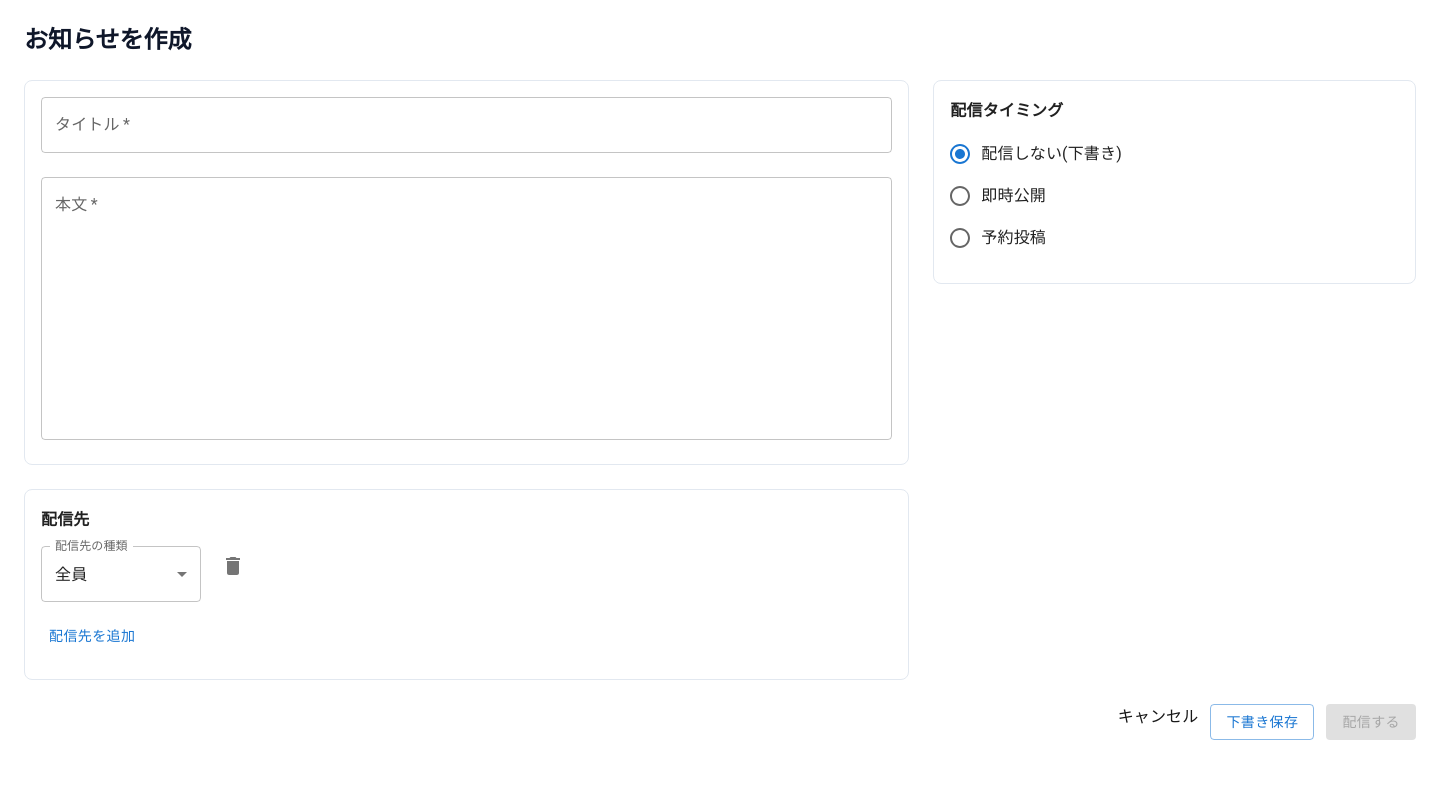
AnnouncementEditorPresenter › 配信先の検証 › 学年別で学年・権限が未選択だとエラーが表示されonSaveDraftは呼ばれない
In the field labelled "タイトル": {"x": 467, "y": 125} [41,97,892,153], type "お知らせ"
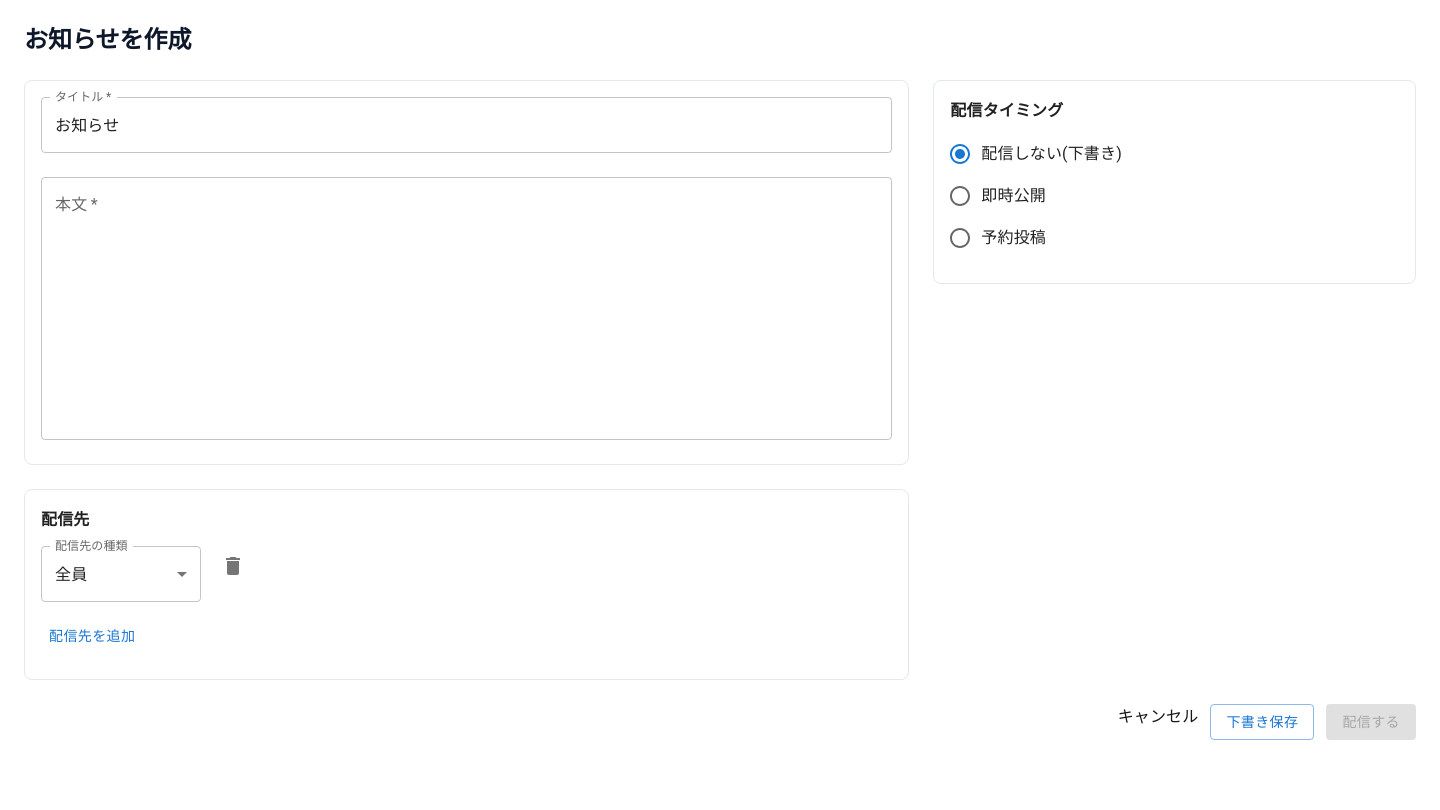
In the text box labelled "本文": {"x": 467, "y": 308} [55,194,878,424], type "本文です"
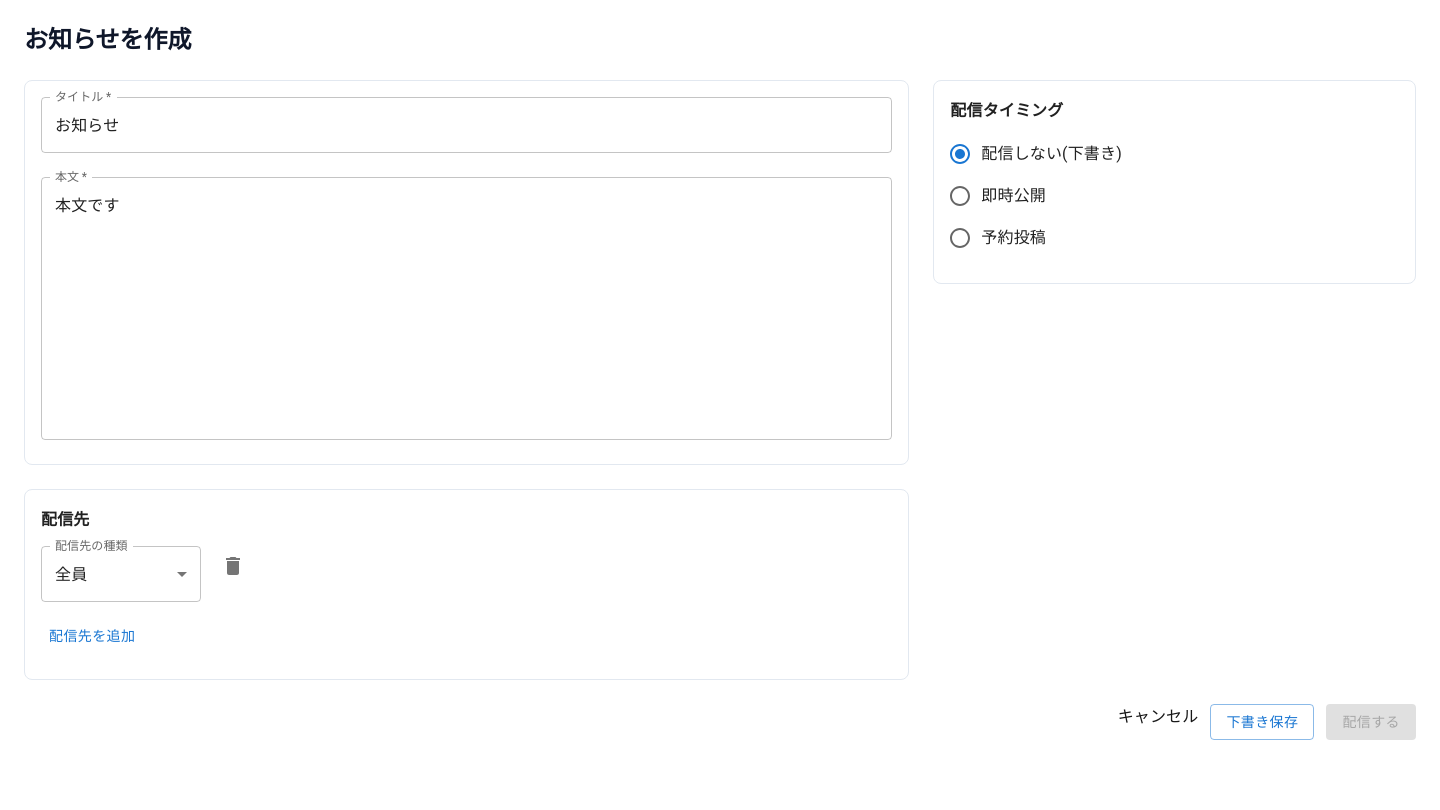
Press the mouse on the dropdown named "配信先の種類": {"x": 71, "y": 574} [55,564,87,584]
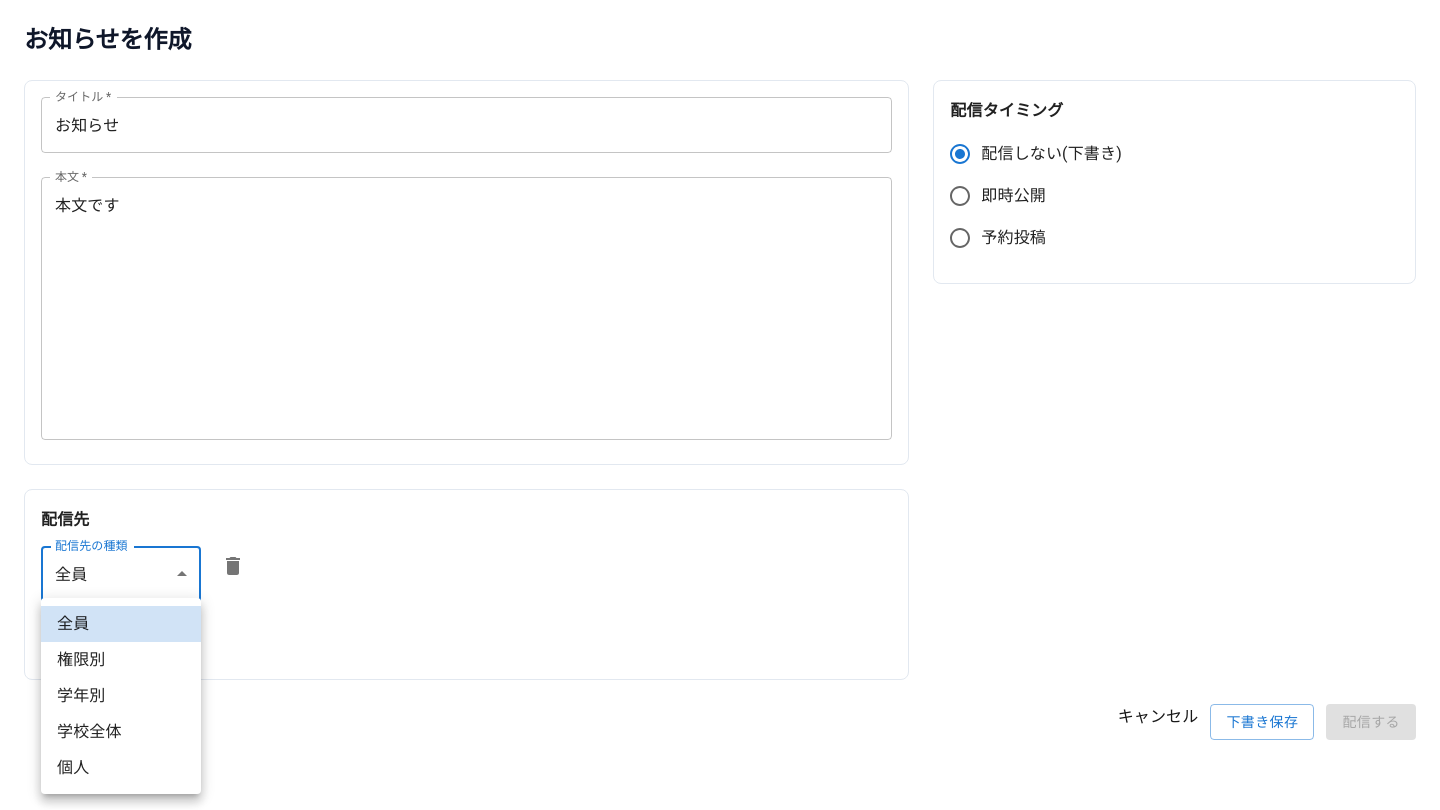
Click the option "学年別": {"x": 81, "y": 696} [57,686,106,705]
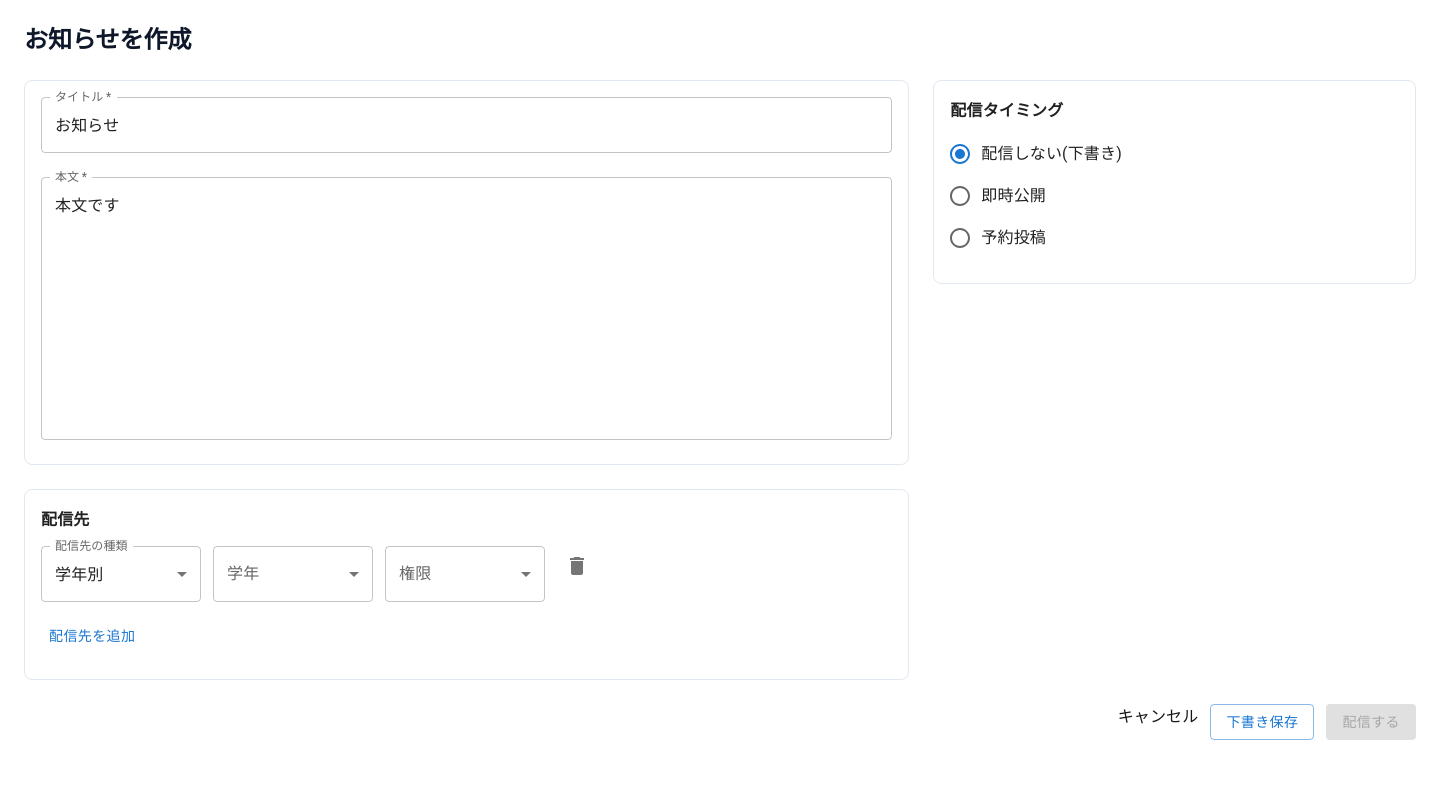
Click the button "下書き保存": {"x": 1262, "y": 722} [1210,704,1314,740]
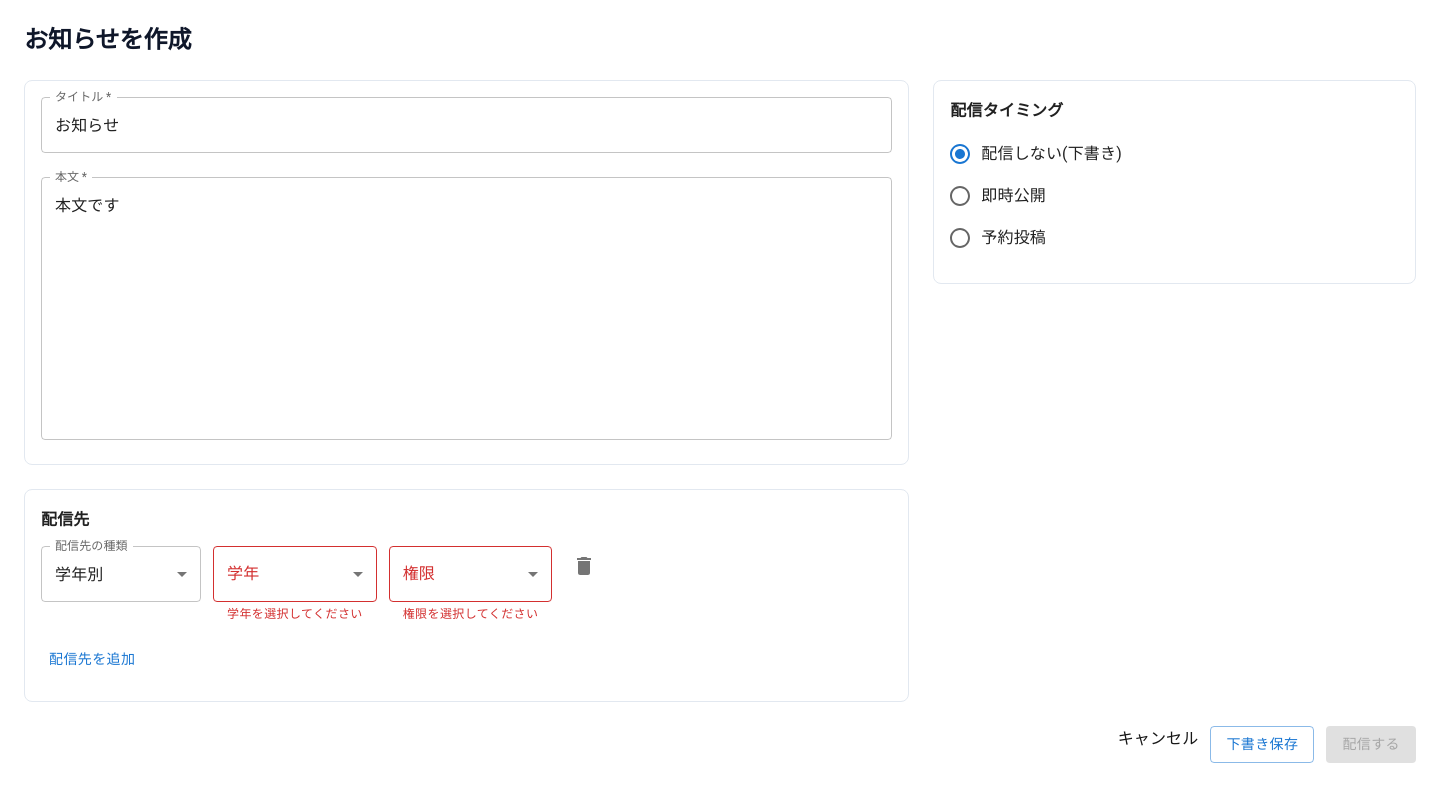
Expected: the text "学年を選択してください" is shown, [227,605,363,625]
Expected: the text "権限を選択してください" is shown, [403,605,538,625]
